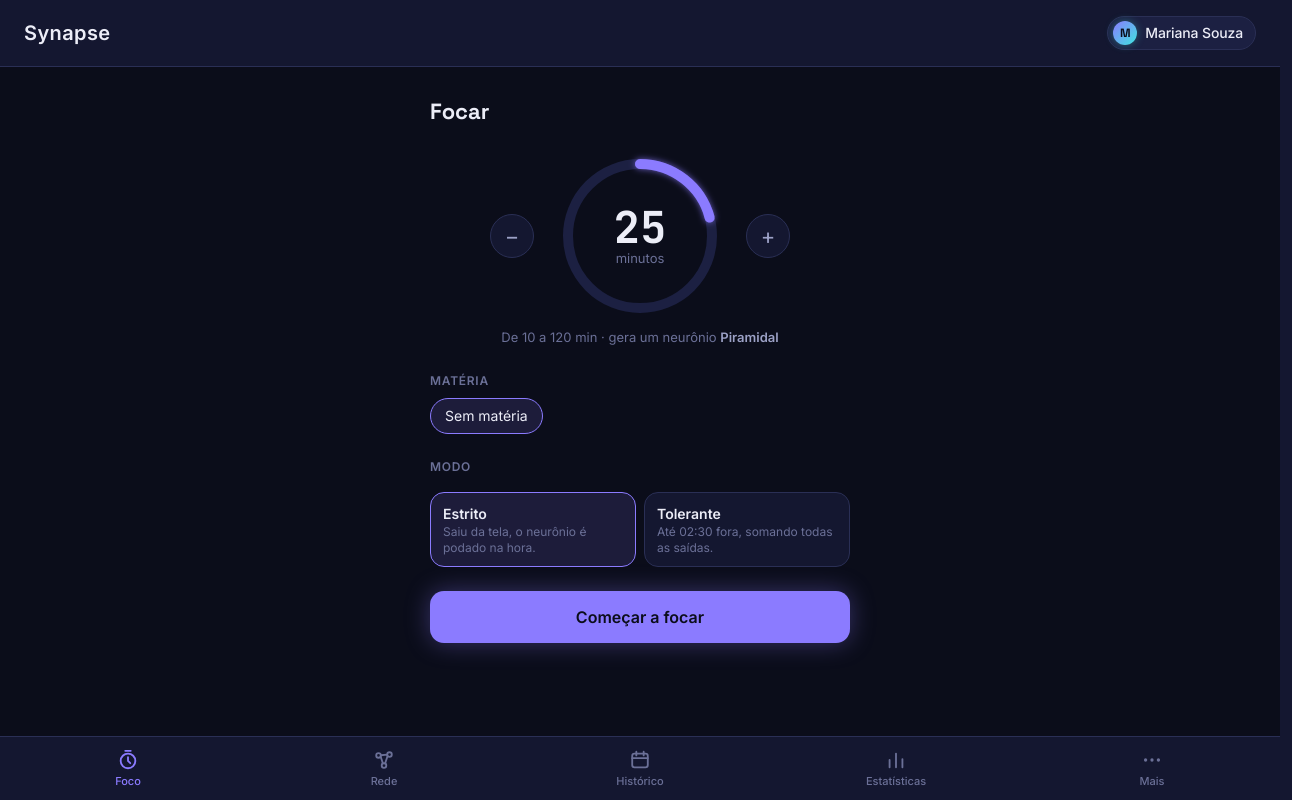
it: rotas e proteção de acesso › usuário autenticado › no celular (issue #35) › navega pela barra de abas embaixo, como no design
Click the link "Histórico": click(640, 768) [616, 749, 664, 788]
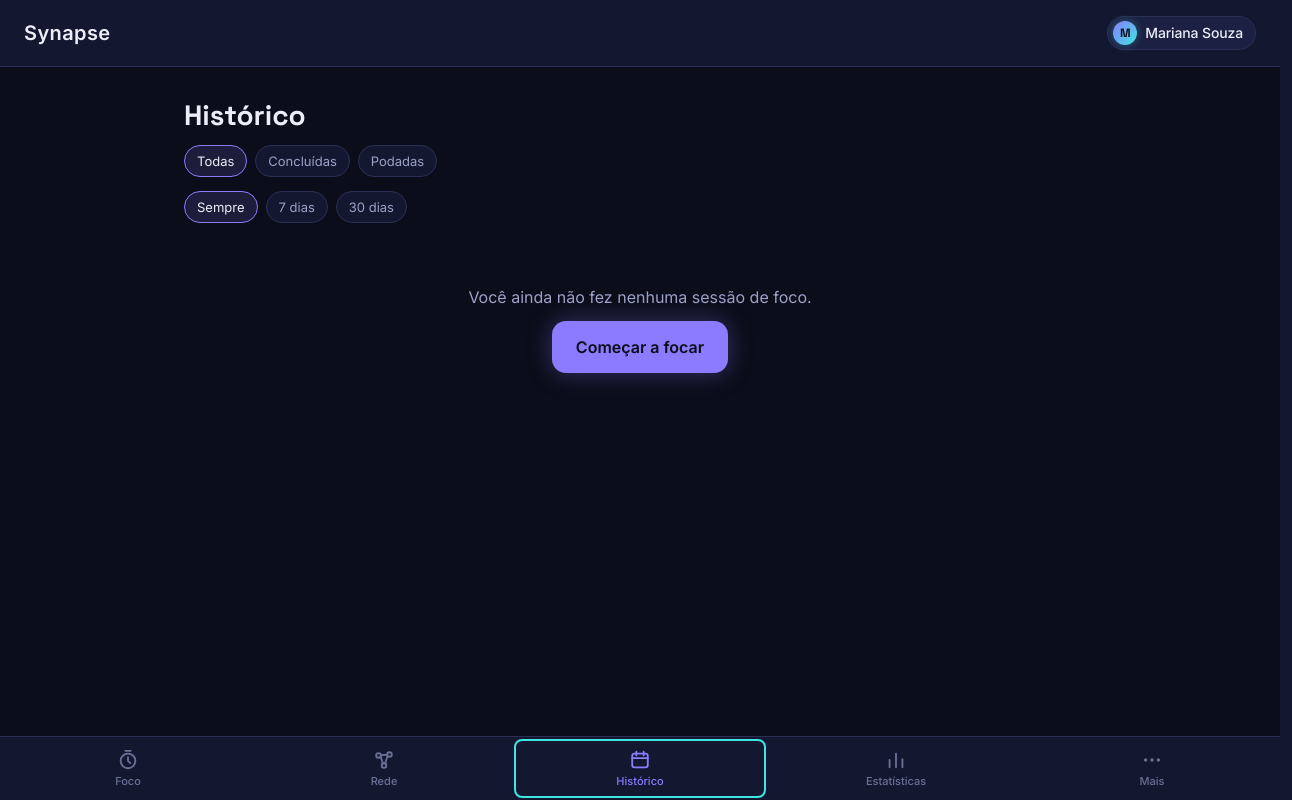
Now the heading "Histórico" is shown, box [184, 99, 306, 131]
